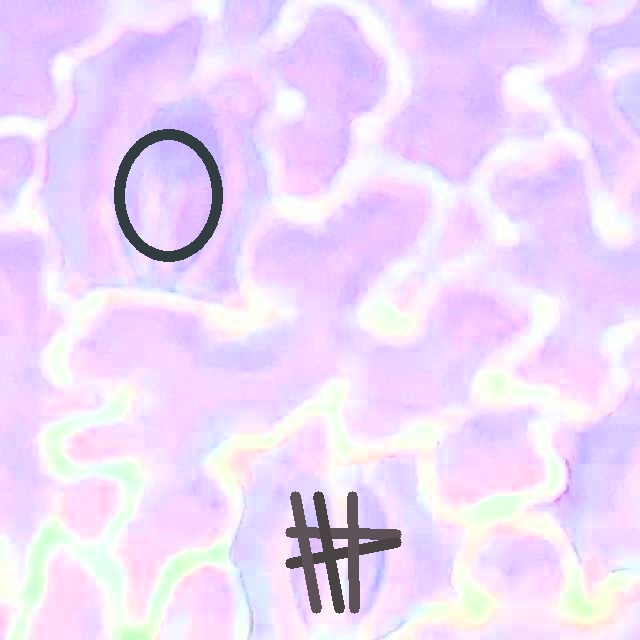open: (113, 128, 222, 261), (286, 491, 400, 612)
